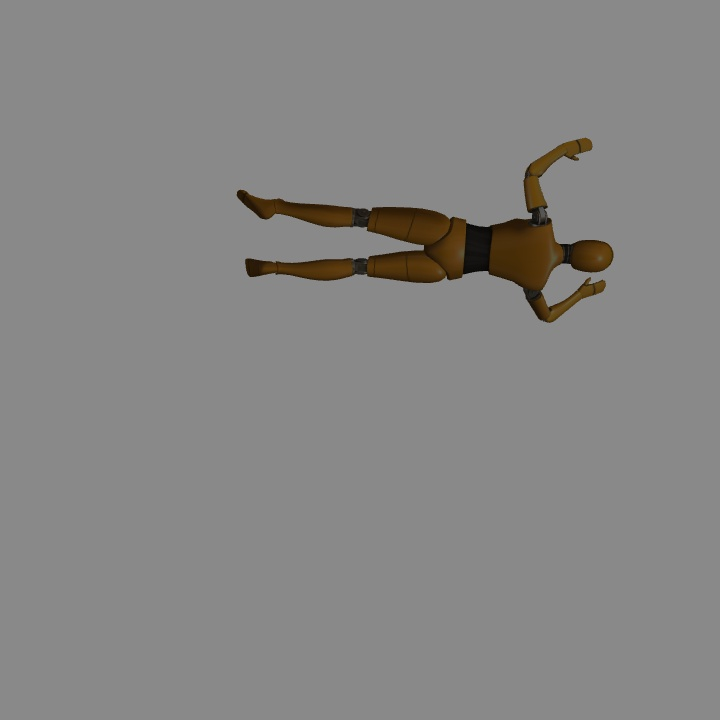victim: (236, 184, 613, 319)
